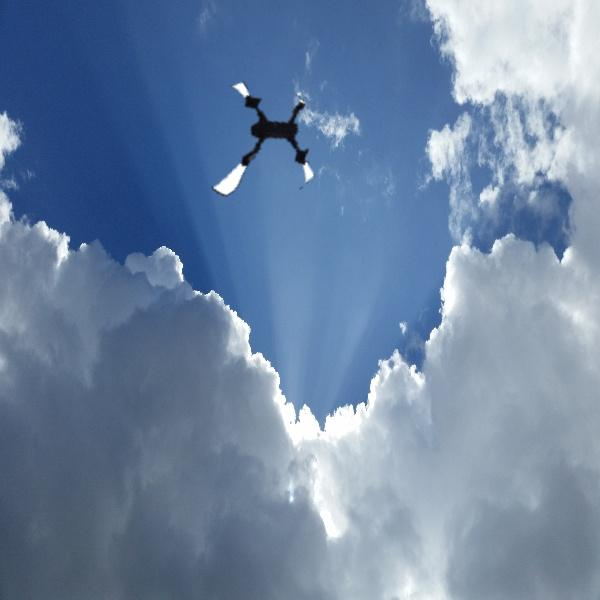drone: (190, 73, 331, 214)
